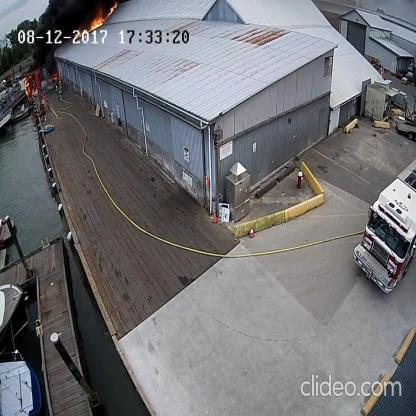fire: (85, 0, 119, 35), (22, 75, 36, 104), (50, 72, 60, 82)
